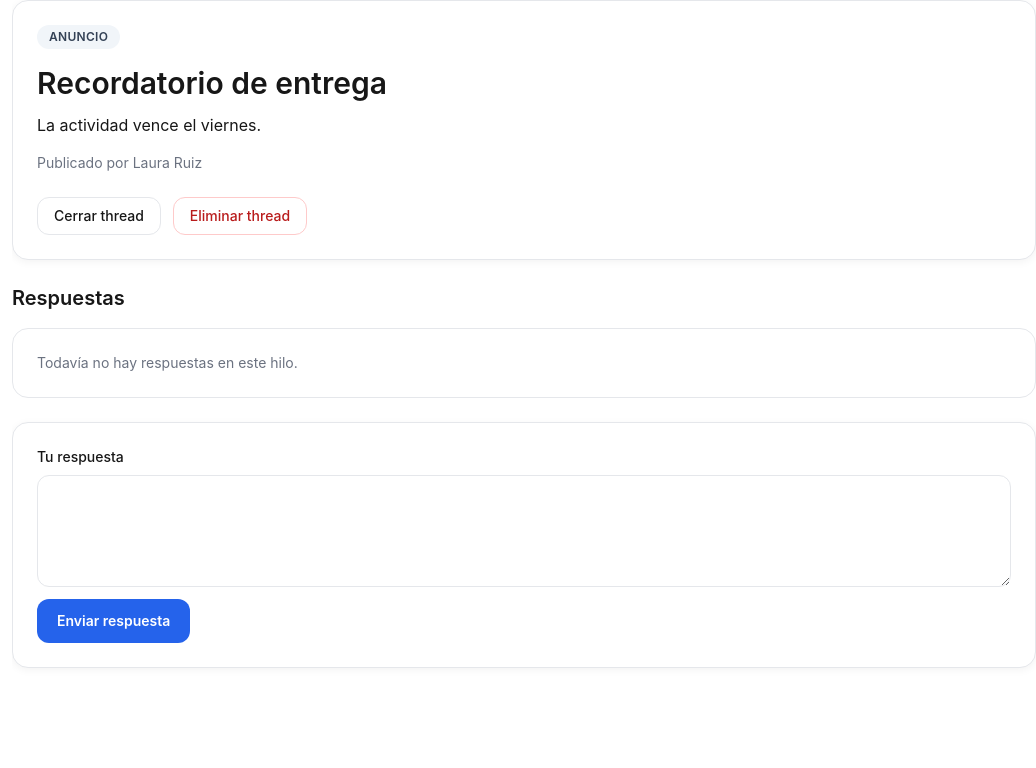
it: ForoDetalle › debería permitir cerrar el thread a un moderador del curso
Click the button "Cerrar thread" at (99, 216), box left=37, top=197, right=161, bottom=235
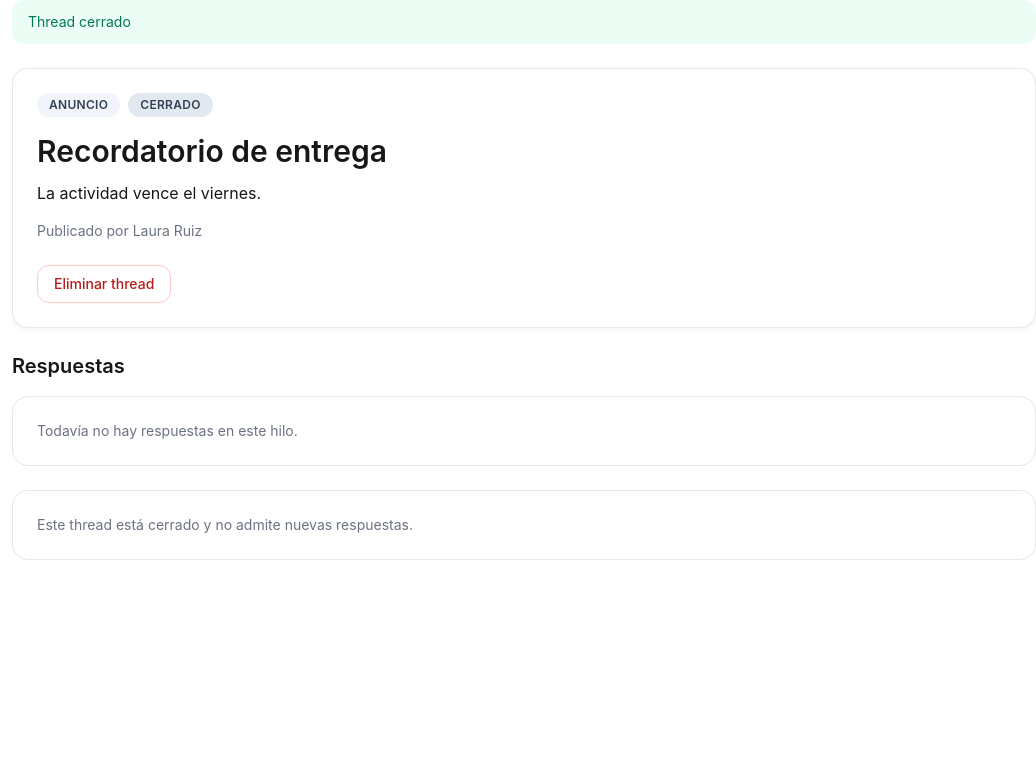
Check: the text "Thread cerrado" is shown, box left=12, top=0, right=1035, bottom=44
